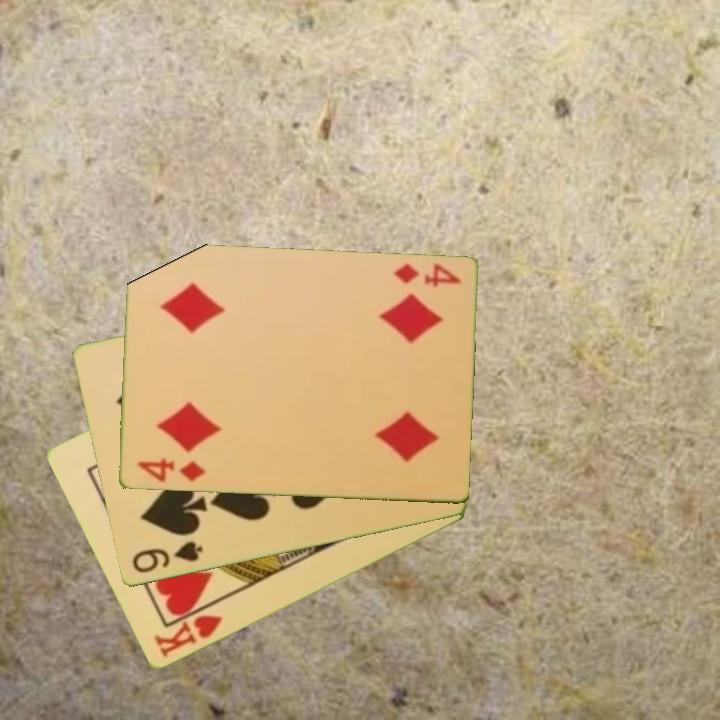4d: (133, 455, 207, 485), (390, 260, 463, 290)
9s: (128, 538, 205, 577)
Kh: (150, 599, 225, 662)
